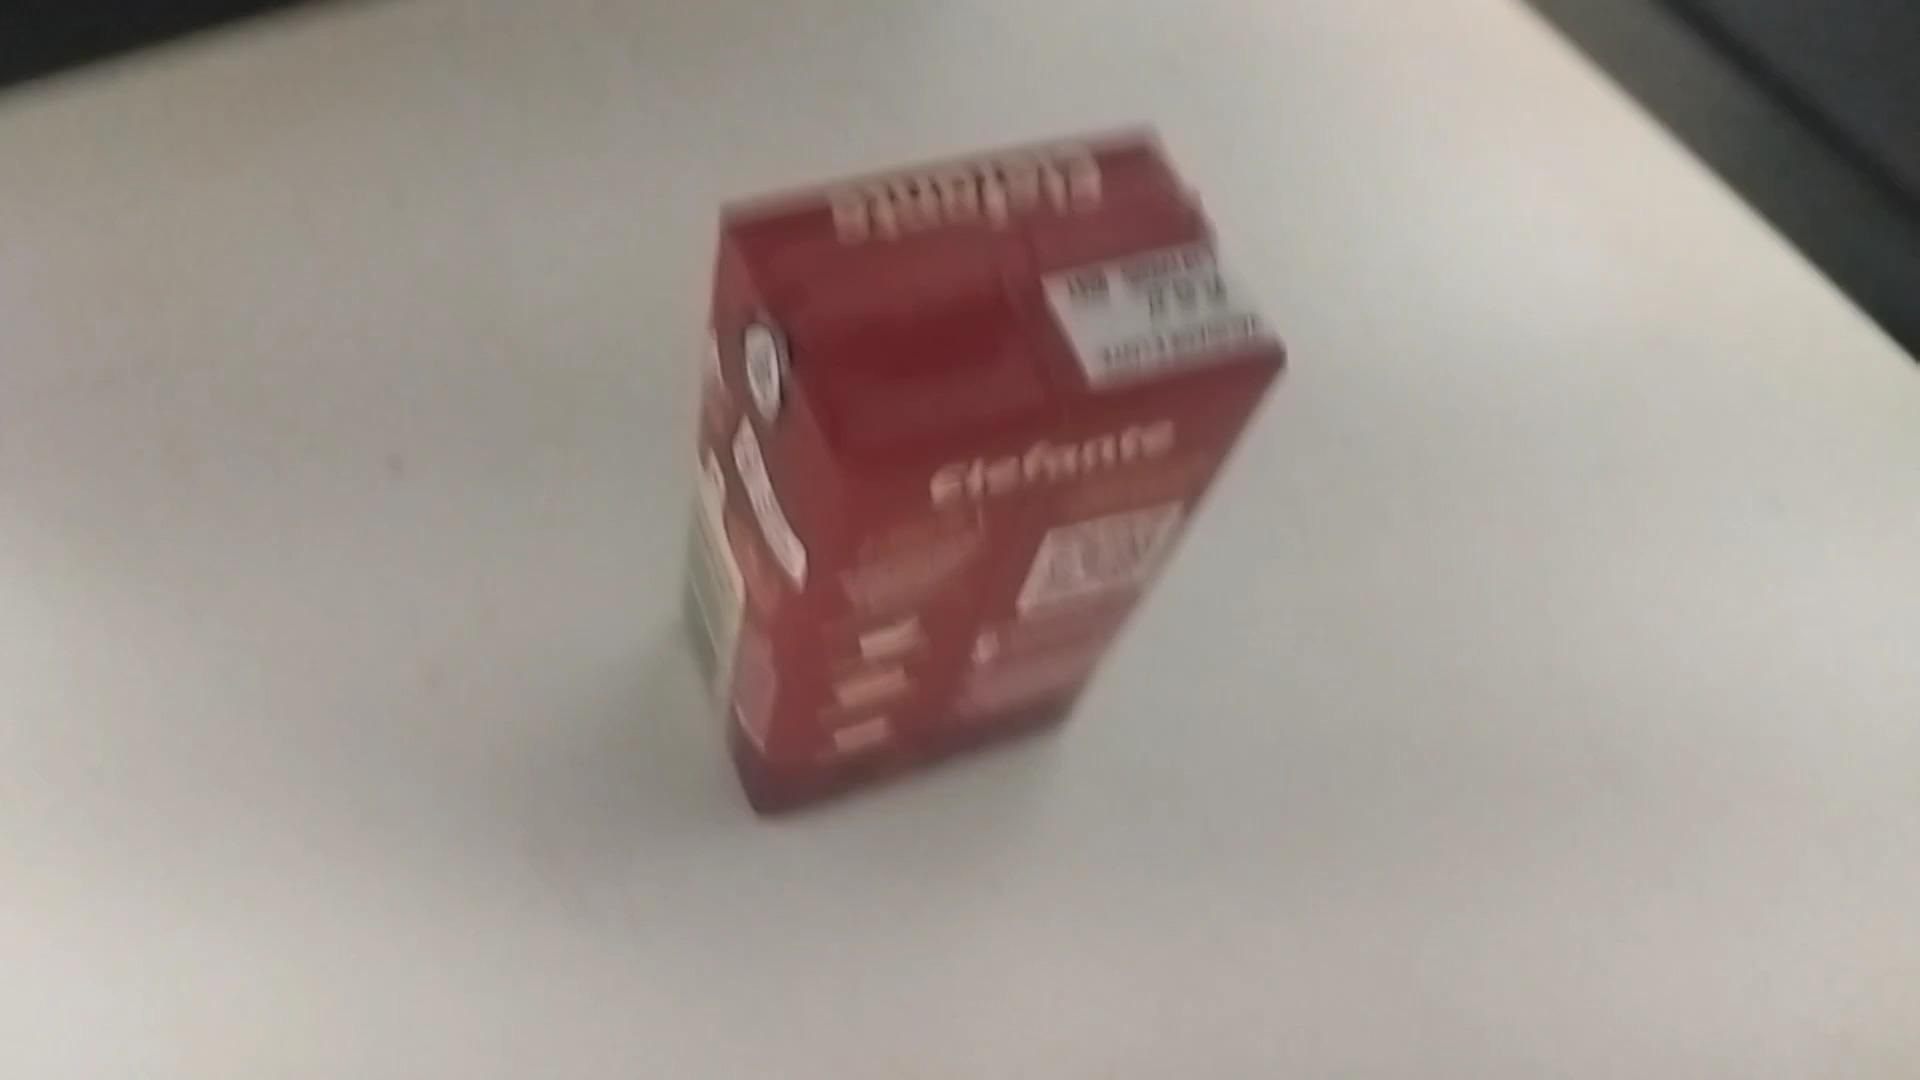tomate: (659, 111, 1303, 831)
